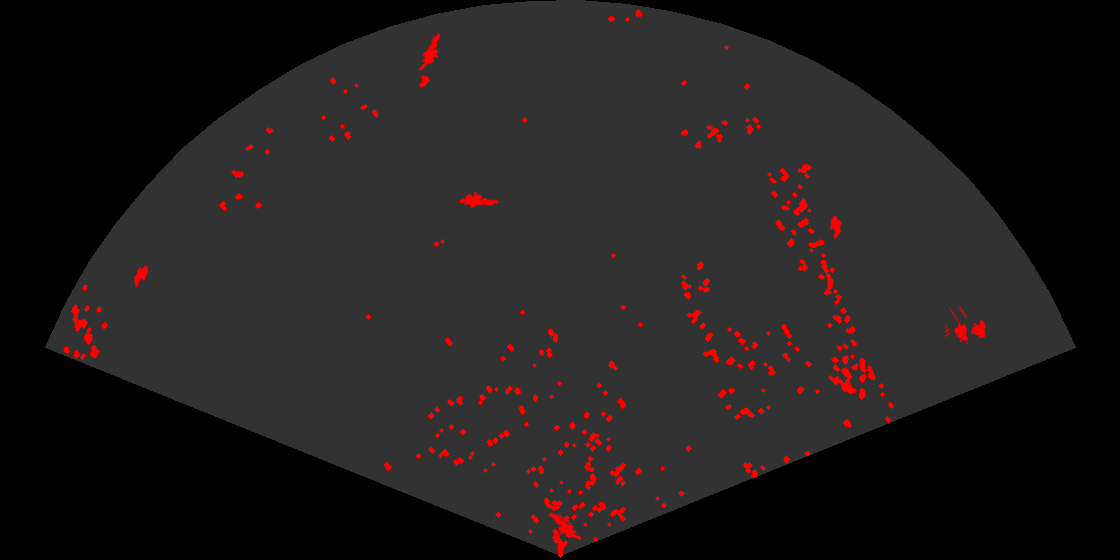AUV: (132, 264, 150, 289), (829, 214, 843, 240)
cage: (945, 307, 988, 346)
frogman: (541, 509, 581, 542), (416, 31, 442, 70), (460, 190, 500, 210)
